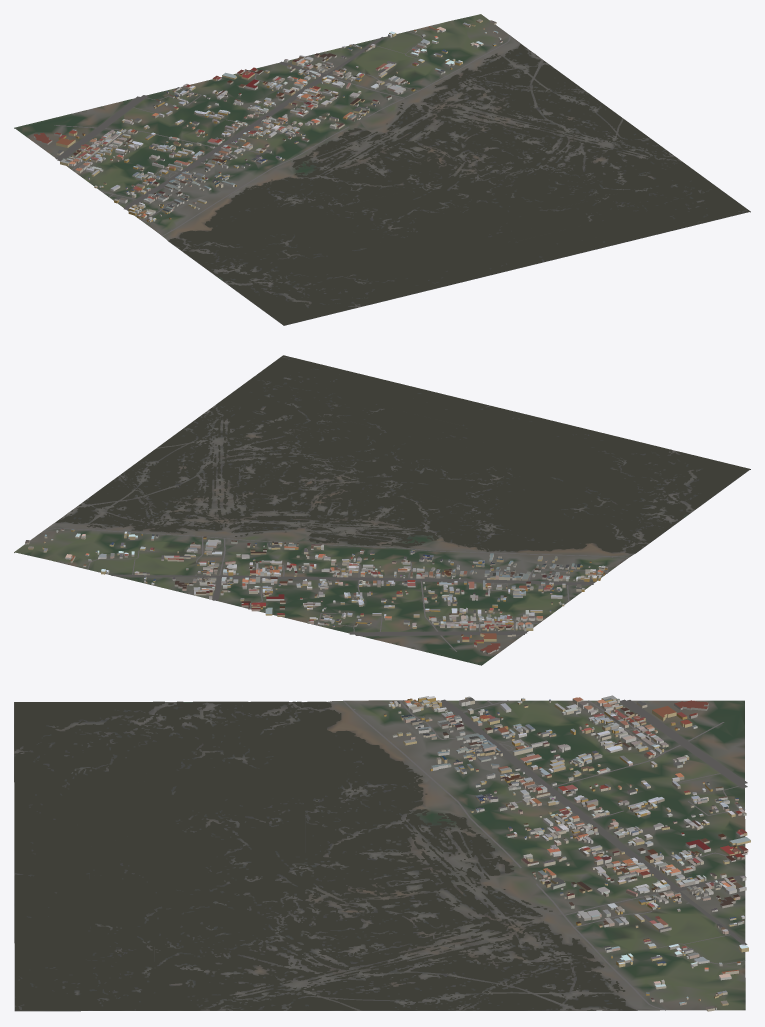
3 views of the same model, one above another, from view 1: azimuth 30°, elevation 25°; view 2: azimuth 150°, elevation 25°; view 3: azimuth 270°, elevation 25° (orthographic). The views are drawn at different scales.
Parts seen in each view (by area): view 1: water, ground, buildings, roads; view 2: water, ground, buildings, roads; view 3: water, ground, buildings, roads.
Boxes of the visible parts, bbox=[...] form: water: bbox=[169, 44, 749, 325]; ground: bbox=[14, 14, 750, 325]; buildings: bbox=[33, 19, 502, 222]; roads: bbox=[54, 31, 510, 236]; water: bbox=[55, 355, 749, 553]; ground: bbox=[14, 356, 750, 665]; buildings: bbox=[25, 528, 607, 654]; roads: bbox=[43, 528, 629, 651]; water: bbox=[14, 701, 635, 1010]; ground: bbox=[14, 700, 745, 1011]; buildings: bbox=[384, 695, 750, 1011]; roads: bbox=[343, 699, 747, 1010].
Size of the model in its own units: 1415 by 17.67 by 1412.
